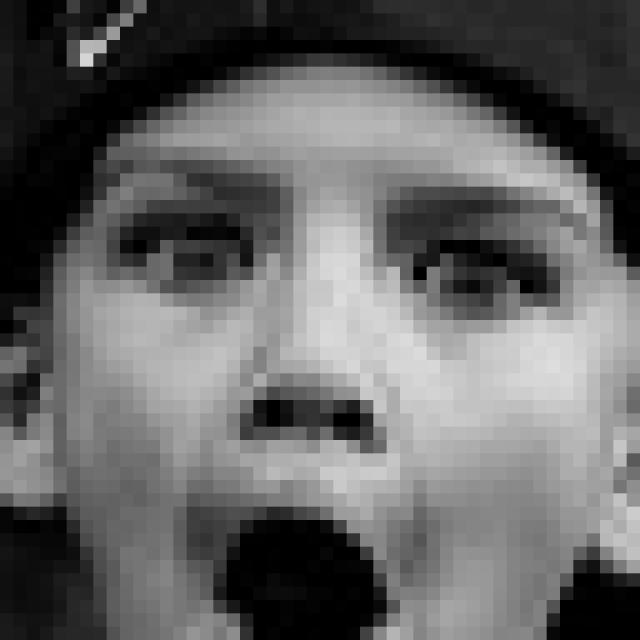surprise: (100, 135, 604, 640)
